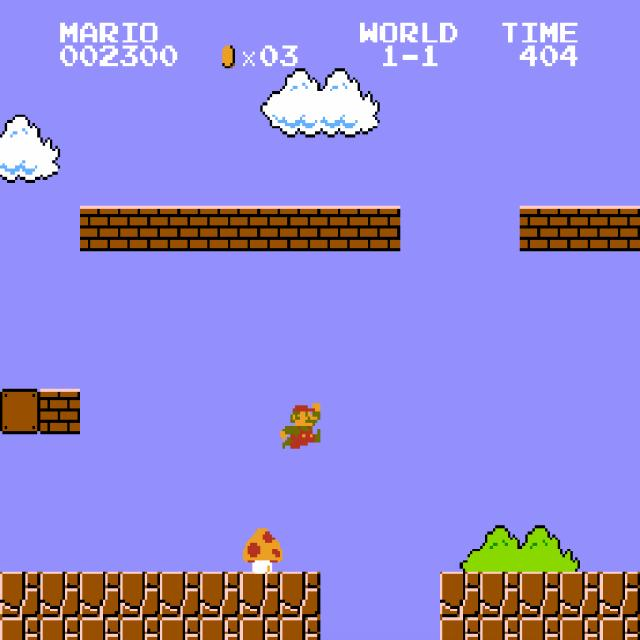brick_block: (599, 205, 640, 251), (40, 389, 80, 434), (80, 206, 120, 251), (120, 206, 160, 251), (160, 206, 200, 251), (200, 206, 240, 251), (240, 206, 280, 251), (280, 206, 320, 251), (320, 206, 360, 251), (360, 206, 400, 251), (520, 206, 560, 251), (560, 206, 600, 251)
empty_block: (0, 388, 40, 434)
little_mario: (277, 400, 320, 449)
mushroom: (240, 526, 282, 574)
undestructible_block: (599, 571, 640, 617), (0, 571, 40, 617), (40, 572, 80, 617), (80, 572, 120, 617), (120, 572, 160, 617), (160, 572, 200, 617), (200, 572, 240, 617), (240, 572, 280, 617), (280, 572, 320, 617), (440, 572, 480, 617), (480, 572, 520, 617), (520, 572, 560, 617), (560, 572, 600, 617), (40, 617, 80, 640), (80, 617, 120, 640), (120, 617, 160, 640), (160, 617, 200, 640), (200, 617, 240, 640), (240, 617, 280, 640), (280, 617, 320, 640), (440, 617, 480, 640), (480, 617, 520, 640), (520, 617, 560, 640), (560, 617, 600, 640), (599, 617, 640, 639), (0, 617, 40, 639)
